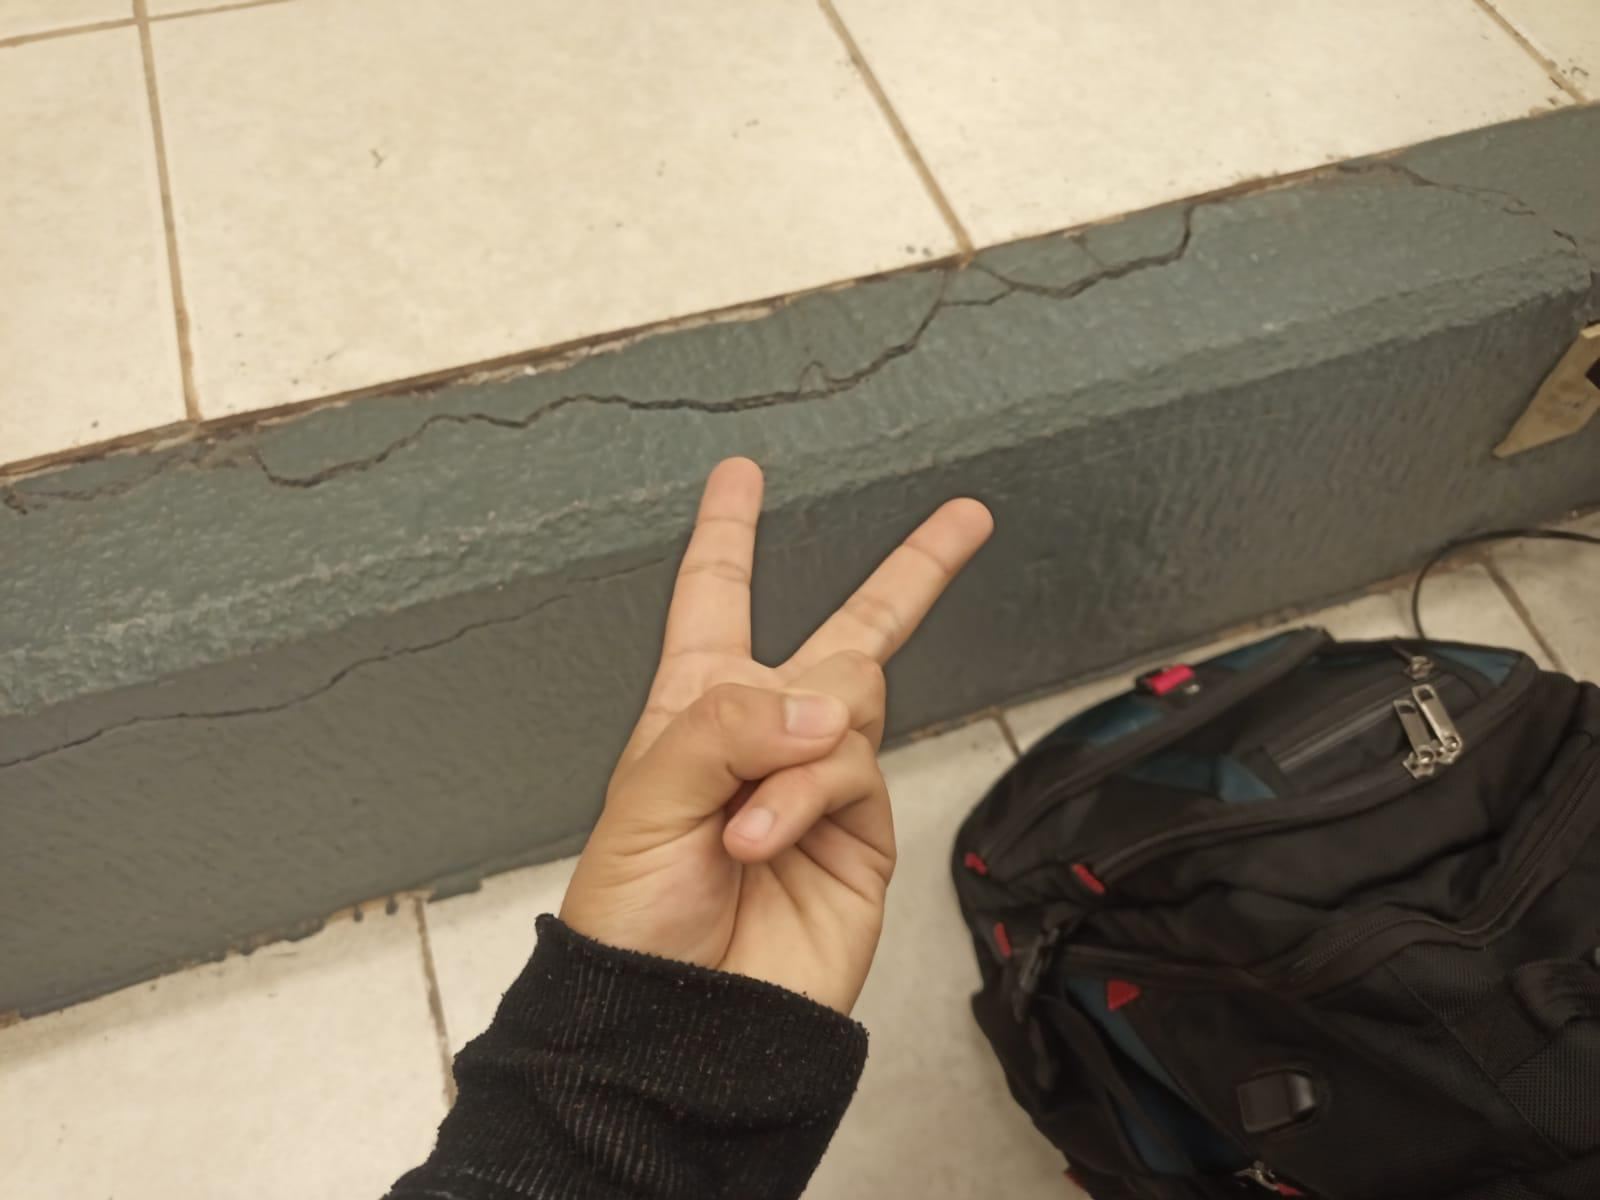Scissor: (549, 442, 1029, 1045)
